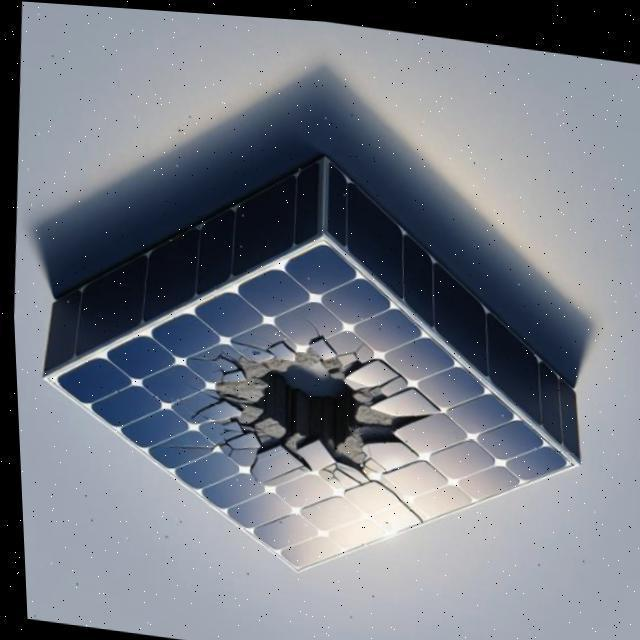Anomaly Solar Panel: (44, 187, 569, 640)
Structural Damage: (193, 316, 442, 506), (149, 442, 212, 451)
